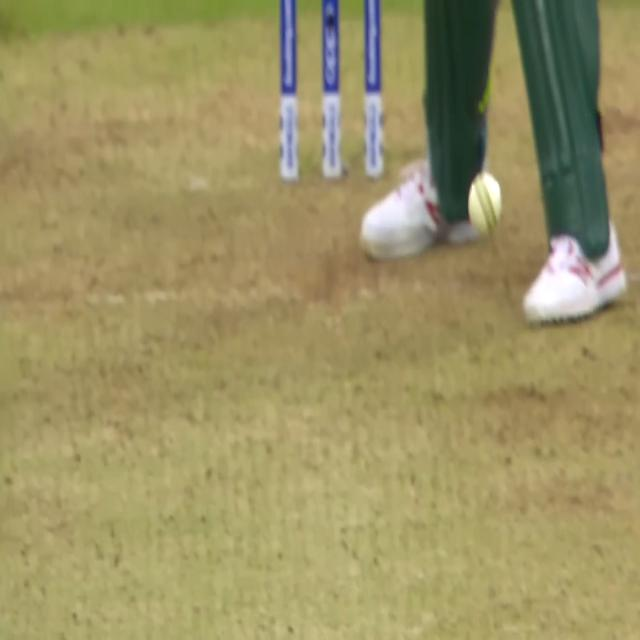ball: (463, 172, 508, 234)
